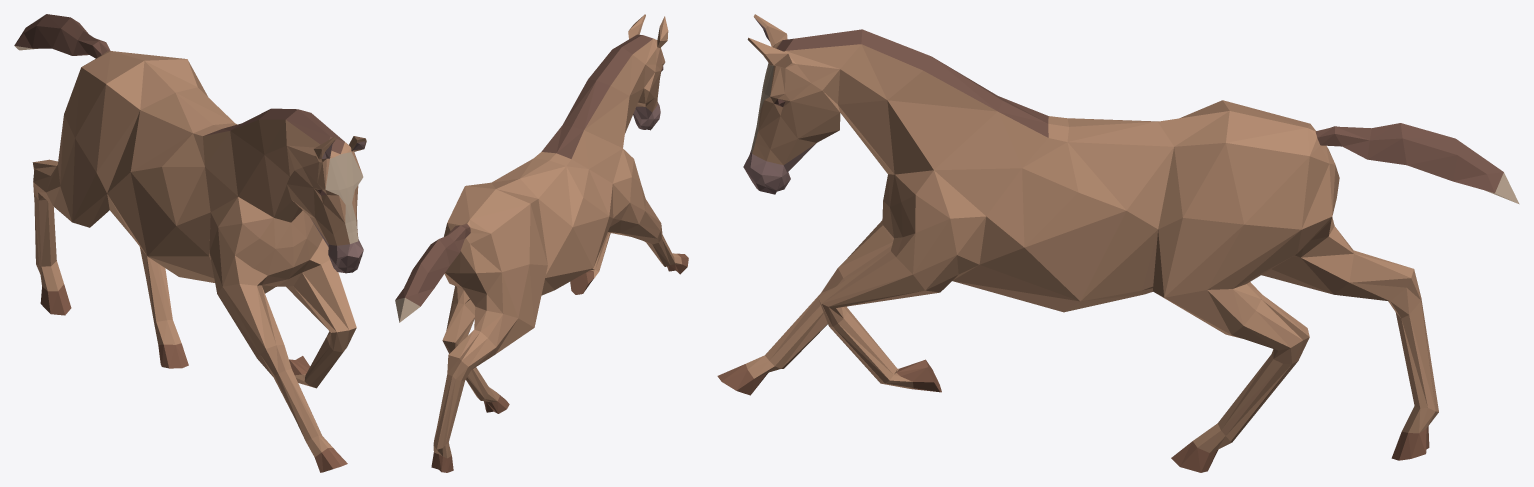
The model's file is Horse.glb.
The picture shows the model from 3 angles, left to right: view 1: azimuth 30°, elevation 25°; view 2: azimuth 150°, elevation 25°; view 3: azimuth 270°, elevation 25°; orthographic projection. The views are drawn at different scales.
Visible parts, largest first — view 1: mesh_0; view 2: mesh_0; view 3: mesh_0.
Boxes of the visible parts, <box> form: mesh_0: <box>14,14,366,472</box>; mesh_0: <box>395,14,688,472</box>; mesh_0: <box>717,14,1519,472</box>.
Bounding box in the file's own units: 60.66 × 176 × 290.
